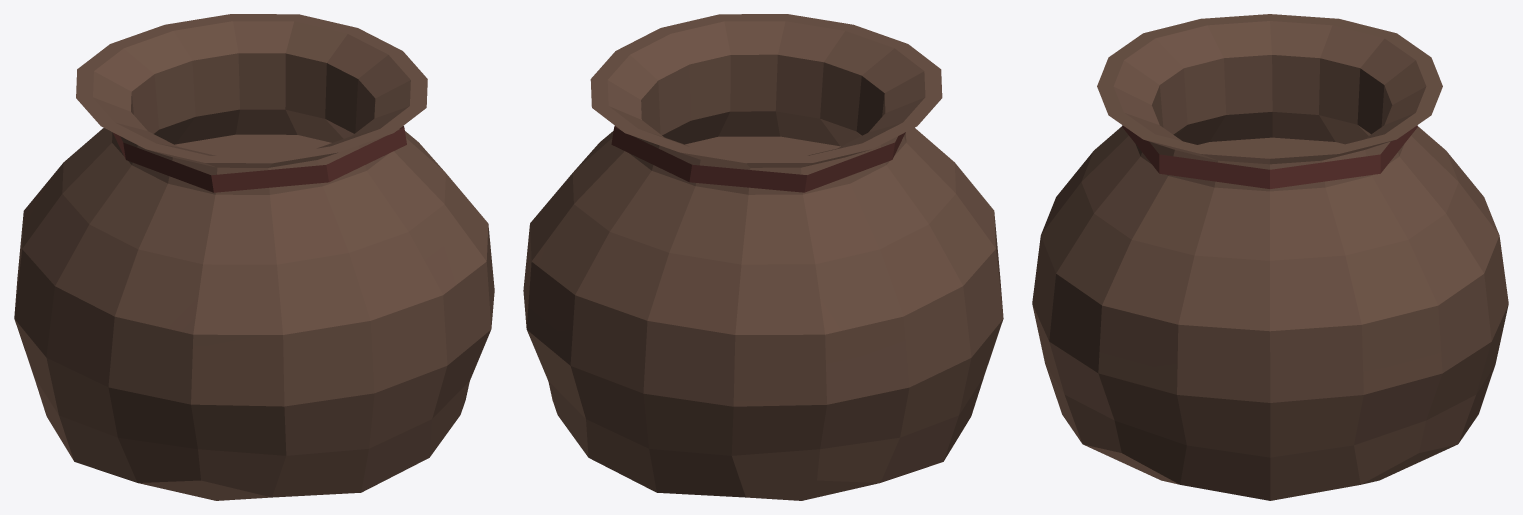
Rendered from Bag.fbx.
3 views of the same model, side by side, from view 1: azimuth 30°, elevation 25°; view 2: azimuth 150°, elevation 25°; view 3: azimuth 270°, elevation 25° (orthographic).
Parts seen in each view (by area): view 1: Bag; view 2: Bag; view 3: Bag.
Boxes of the visible parts, x1,y1,x2,y2 form: Bag: [14, 14, 494, 500]; Bag: [523, 14, 1003, 500]; Bag: [1032, 14, 1508, 500].
Bounding box in the file's own units: 198 × 169 × 198.
